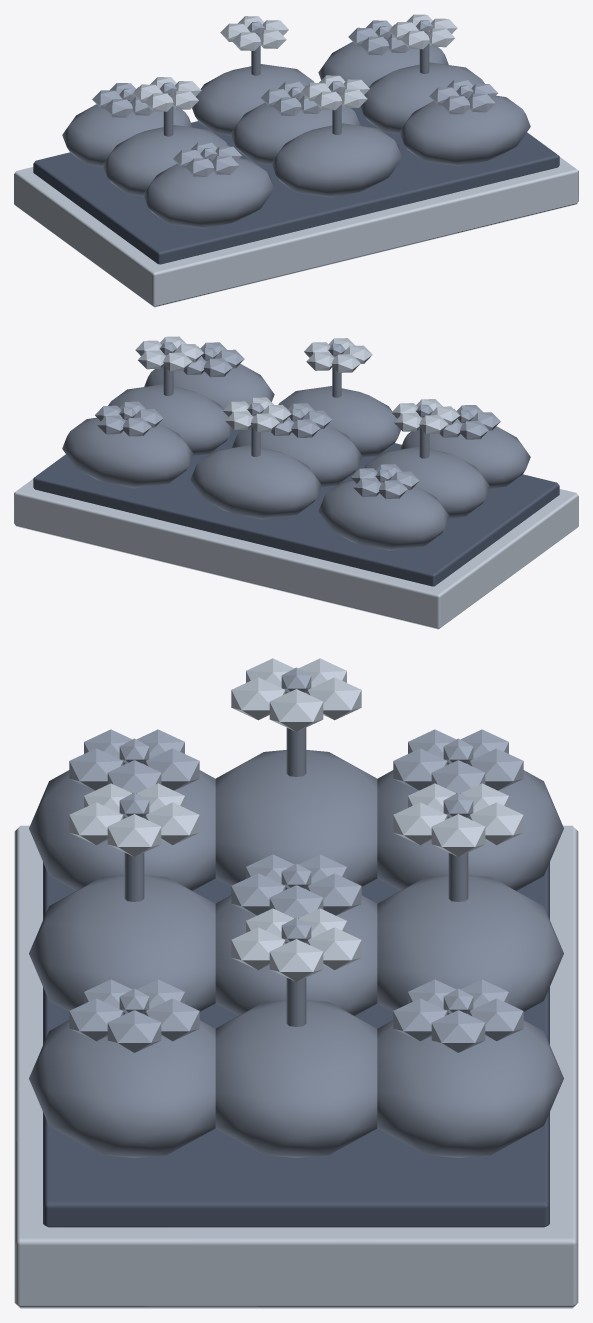
3 renders of one model, top to bottom at view 1: azimuth 30°, elevation 25°; view 2: azimuth 150°, elevation 25°; view 3: azimuth 270°, elevation 25°, orthographic. The views are drawn at different scales.
Parts seen in each view (by area): view 1: garden-flowerbed; view 2: garden-flowerbed; view 3: garden-flowerbed.
Part boxes in pixels (x1=…): garden-flowerbed: x1=14, y1=14, x2=578, y2=307; garden-flowerbed: x1=14, y1=336, x2=578, y2=629; garden-flowerbed: x1=14, y1=658, x2=578, y2=1308.
Size of the model in its own units: 1.4 by 0.48 by 0.8.
